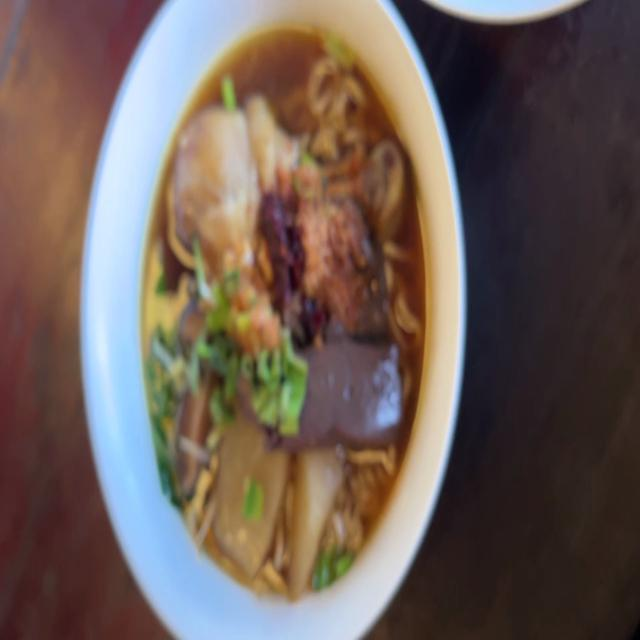noodle: (132, 16, 422, 597)
